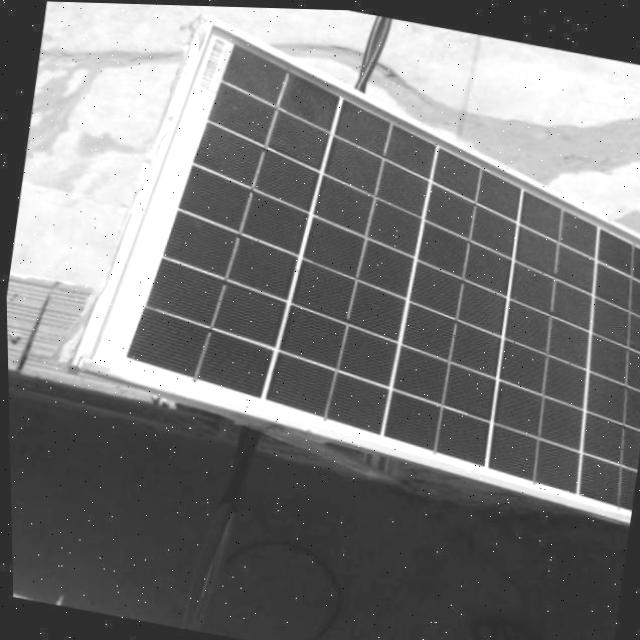Normal Solar Panel: (60, 1, 640, 520)
